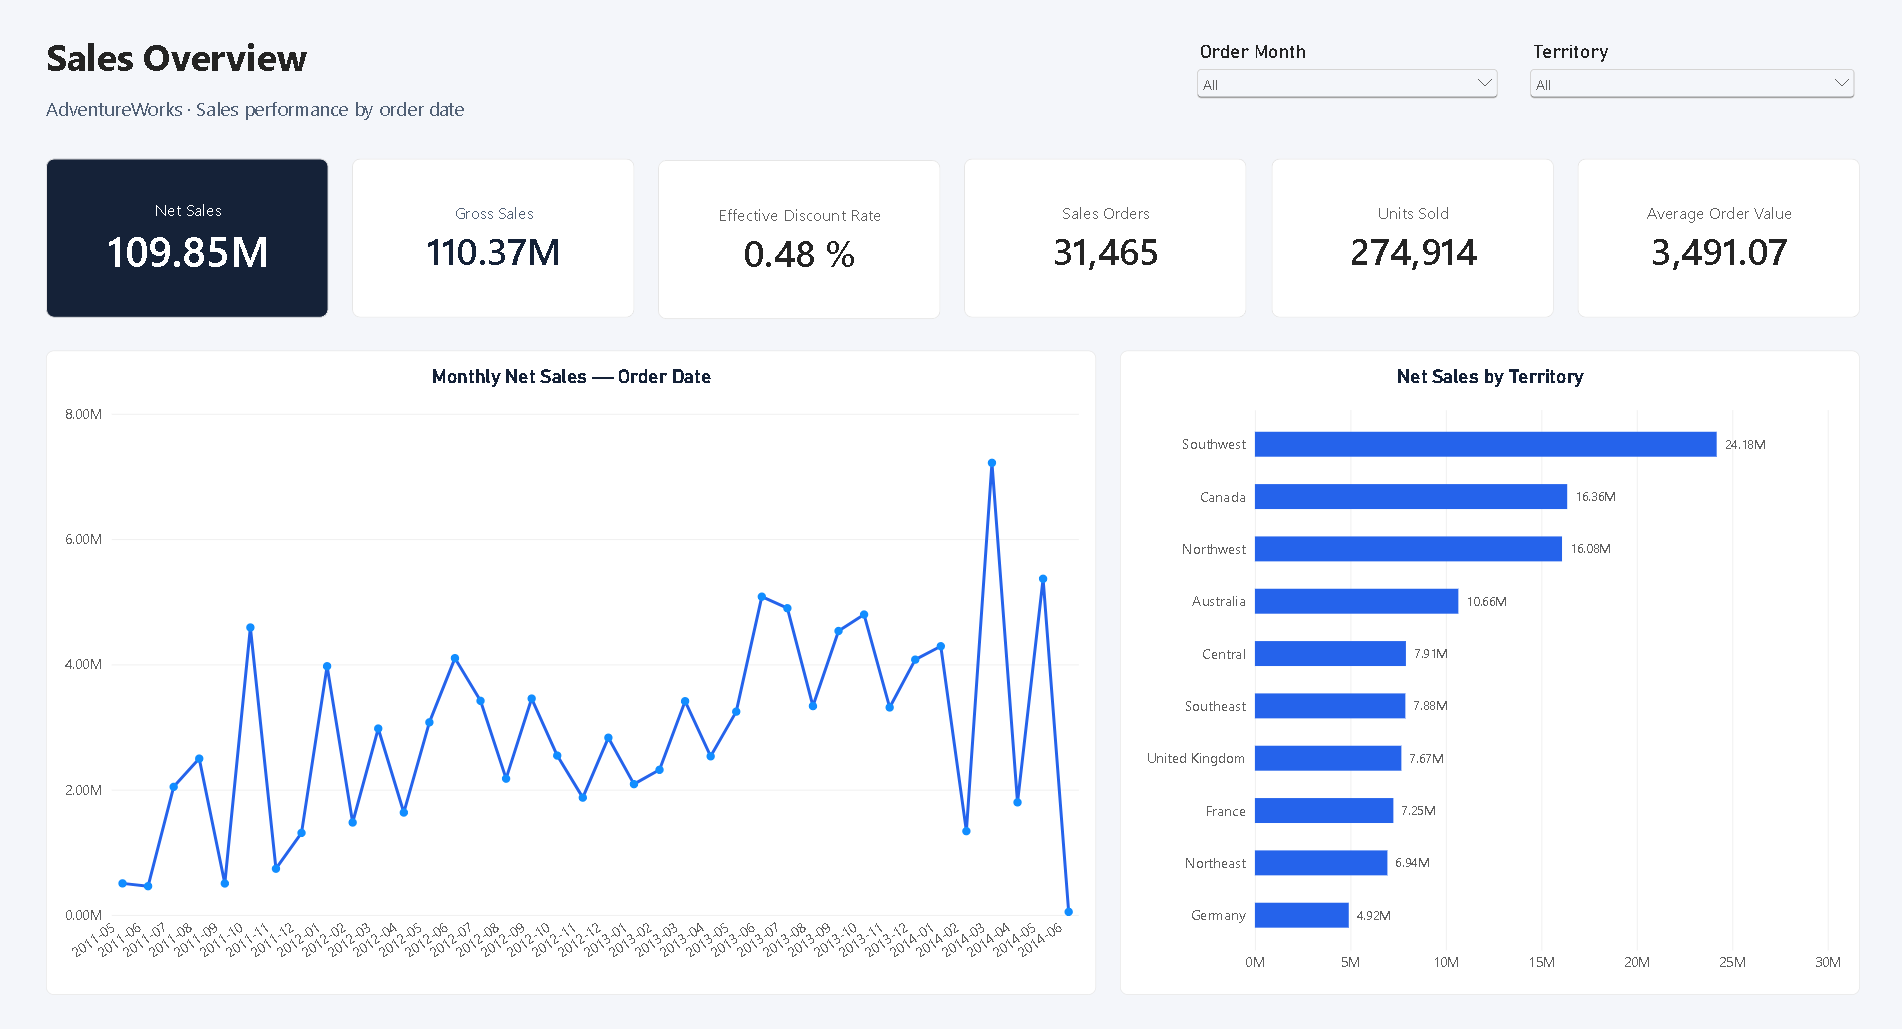

The page's visual inventory and layout, read from the dashboard file:
{"tool":"powerbi","page":{"name":"Sales Overview","canvas":[1920,1080],"ordinal":1},"visuals":[{"type":"cardVisual","fields":{"Data":["FactSales.Net Sales"]},"box":[48,168,284,160],"z":0},{"type":"cardVisual","fields":{"Data":["FactSales.Gross Sales"]},"box":[356,168,284,160],"z":1000},{"type":"cardVisual","fields":{"Data":["FactSales.Sales Orders"]},"box":[972,168,284,160],"z":2000},{"type":"cardVisual","fields":{"Data":["FactSales.Effective Discount Rate"]},"box":[664,168.6,284,160],"z":3000},{"type":"cardVisual","fields":{"Data":["FactSales.Units Sold"]},"box":[1280,168,284,160],"z":4000},{"type":"cardVisual","fields":{"Data":["FactSales.Average Order Value"]},"box":[1588,168,284,160],"z":5000},{"type":"lineChart","title":"Monthly Net Sales — Order Date","fields":{"Category":["DimDate.YearMonth"],"Y":["_Measures.Net Sales"]},"box":[48,360,1056,648],"z":5001},{"type":"clusteredBarChart","title":"Net Sales by Territory","fields":{"Category":["DimTerritory.TerritoryName"],"Y":["_Measures.Net Sales"]},"box":[1128,360,744,648],"z":5002},{"type":"slicer","fields":{"Values":["DimDate.YearMonth"]},"box":[1200,48,312,88],"z":5003},{"type":"slicer","fields":{"Values":["DimTerritory.TerritoryName"]},"box":[1536,48,336,88],"z":5004},{"type":"textbox","box":[47.7,39.8,314.9,63.6],"z":5005},{"type":"textbox","box":[47.7,103.4,750.6,44.5],"z":5007}]}

Visuals, with their boxes on the page's 1920x1080 design canvas (x1, y1, x2, y2). These are canvas units, not pixel positions in the 1902x1029 screenshot, which may show the page scaled, cropped or inside an application window:
cardVisual - FactSales.Net Sales: l=48, t=168, r=332, b=328
cardVisual - FactSales.Gross Sales: l=356, t=168, r=640, b=328
cardVisual - FactSales.Sales Orders: l=972, t=168, r=1256, b=328
cardVisual - FactSales.Effective Discount Rate: l=664, t=169, r=948, b=329
cardVisual - FactSales.Units Sold: l=1280, t=168, r=1564, b=328
cardVisual - FactSales.Average Order Value: l=1588, t=168, r=1872, b=328
"Monthly Net Sales — Order Date" lineChart: l=48, t=360, r=1104, b=1008
"Net Sales by Territory" clusteredBarChart: l=1128, t=360, r=1872, b=1008
slicer - DimDate.YearMonth: l=1200, t=48, r=1512, b=136
slicer - DimTerritory.TerritoryName: l=1536, t=48, r=1872, b=136
textbox: l=48, t=40, r=363, b=103
textbox: l=48, t=103, r=798, b=148
